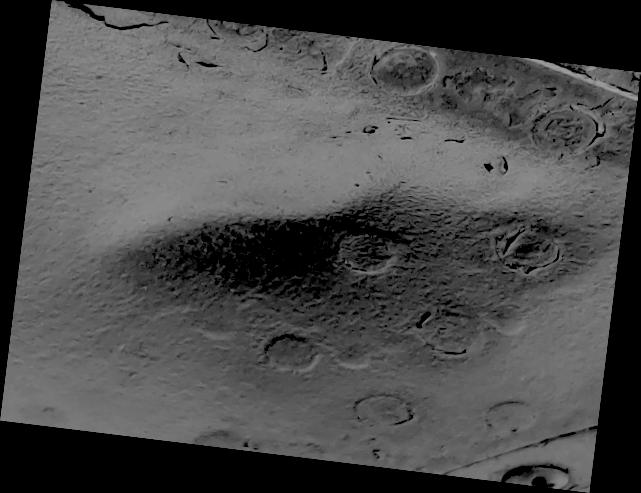dent: (1, 1, 641, 493)
